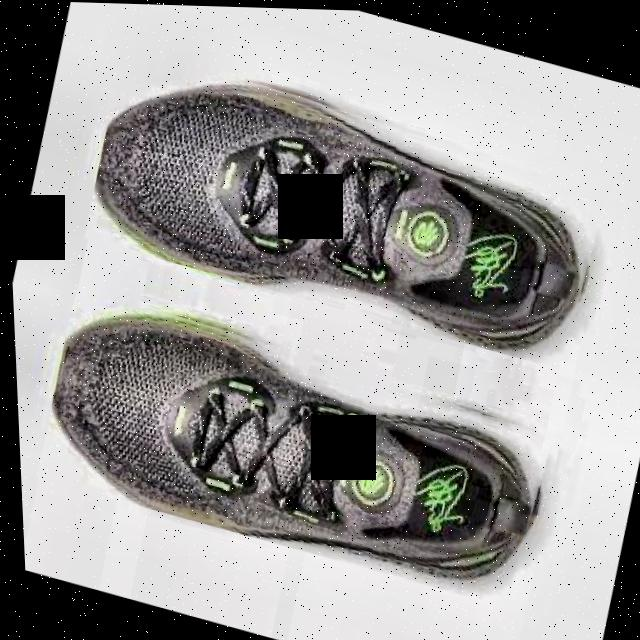shoe: (74, 40, 616, 370), (25, 281, 560, 608)
